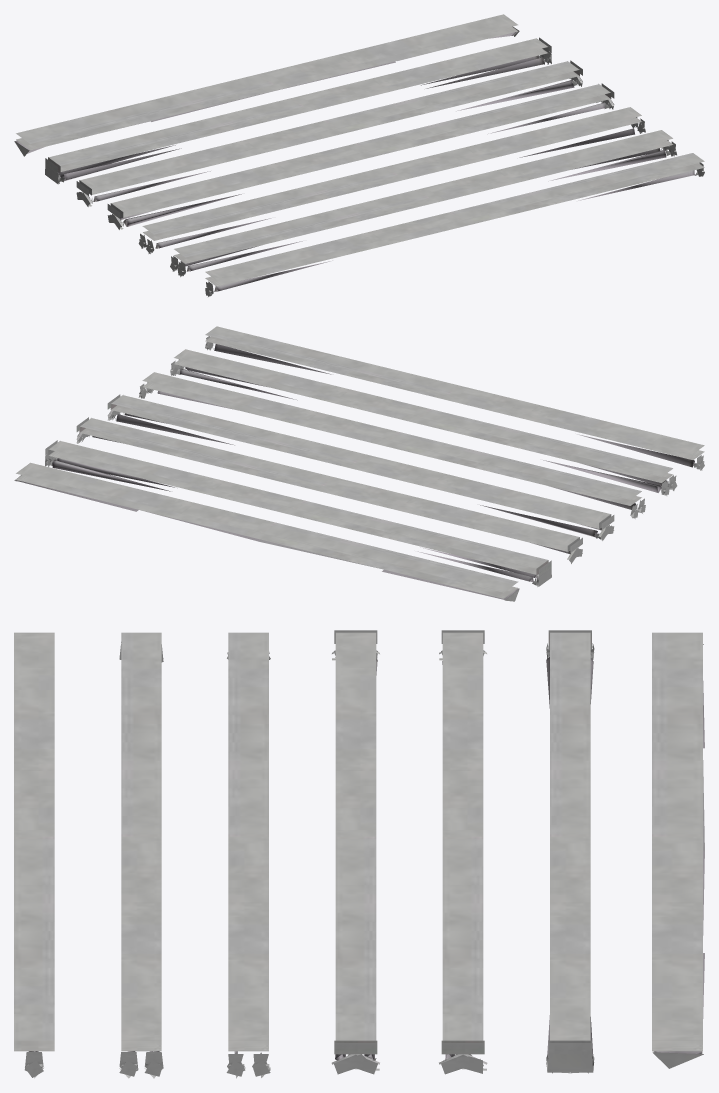
Rendered from mounted_fluorescent_lights.glb.
The picture shows the model from 3 angles, top to bottom: view 1: azimuth 30°, elevation 25°; view 2: azimuth 150°, elevation 25°; view 3: azimuth 270°, elevation 25°; orthographic projection. The views are drawn at different scales.
Parts seen in each view (by area): view 1: mounted_fluorescent_lights_a; view 2: mounted_fluorescent_lights_a; view 3: mounted_fluorescent_lights_a.
Part boxes in pixels (x1,y1,x2,y2): mounted_fluorescent_lights_a: (14,14,704,296); mounted_fluorescent_lights_a: (14,326,704,601); mounted_fluorescent_lights_a: (14,630,704,1078).
Size of the model in its own units: 0.9122 by 0.0365 by 0.6446.
Materials: 2 (2 with a texture image).
